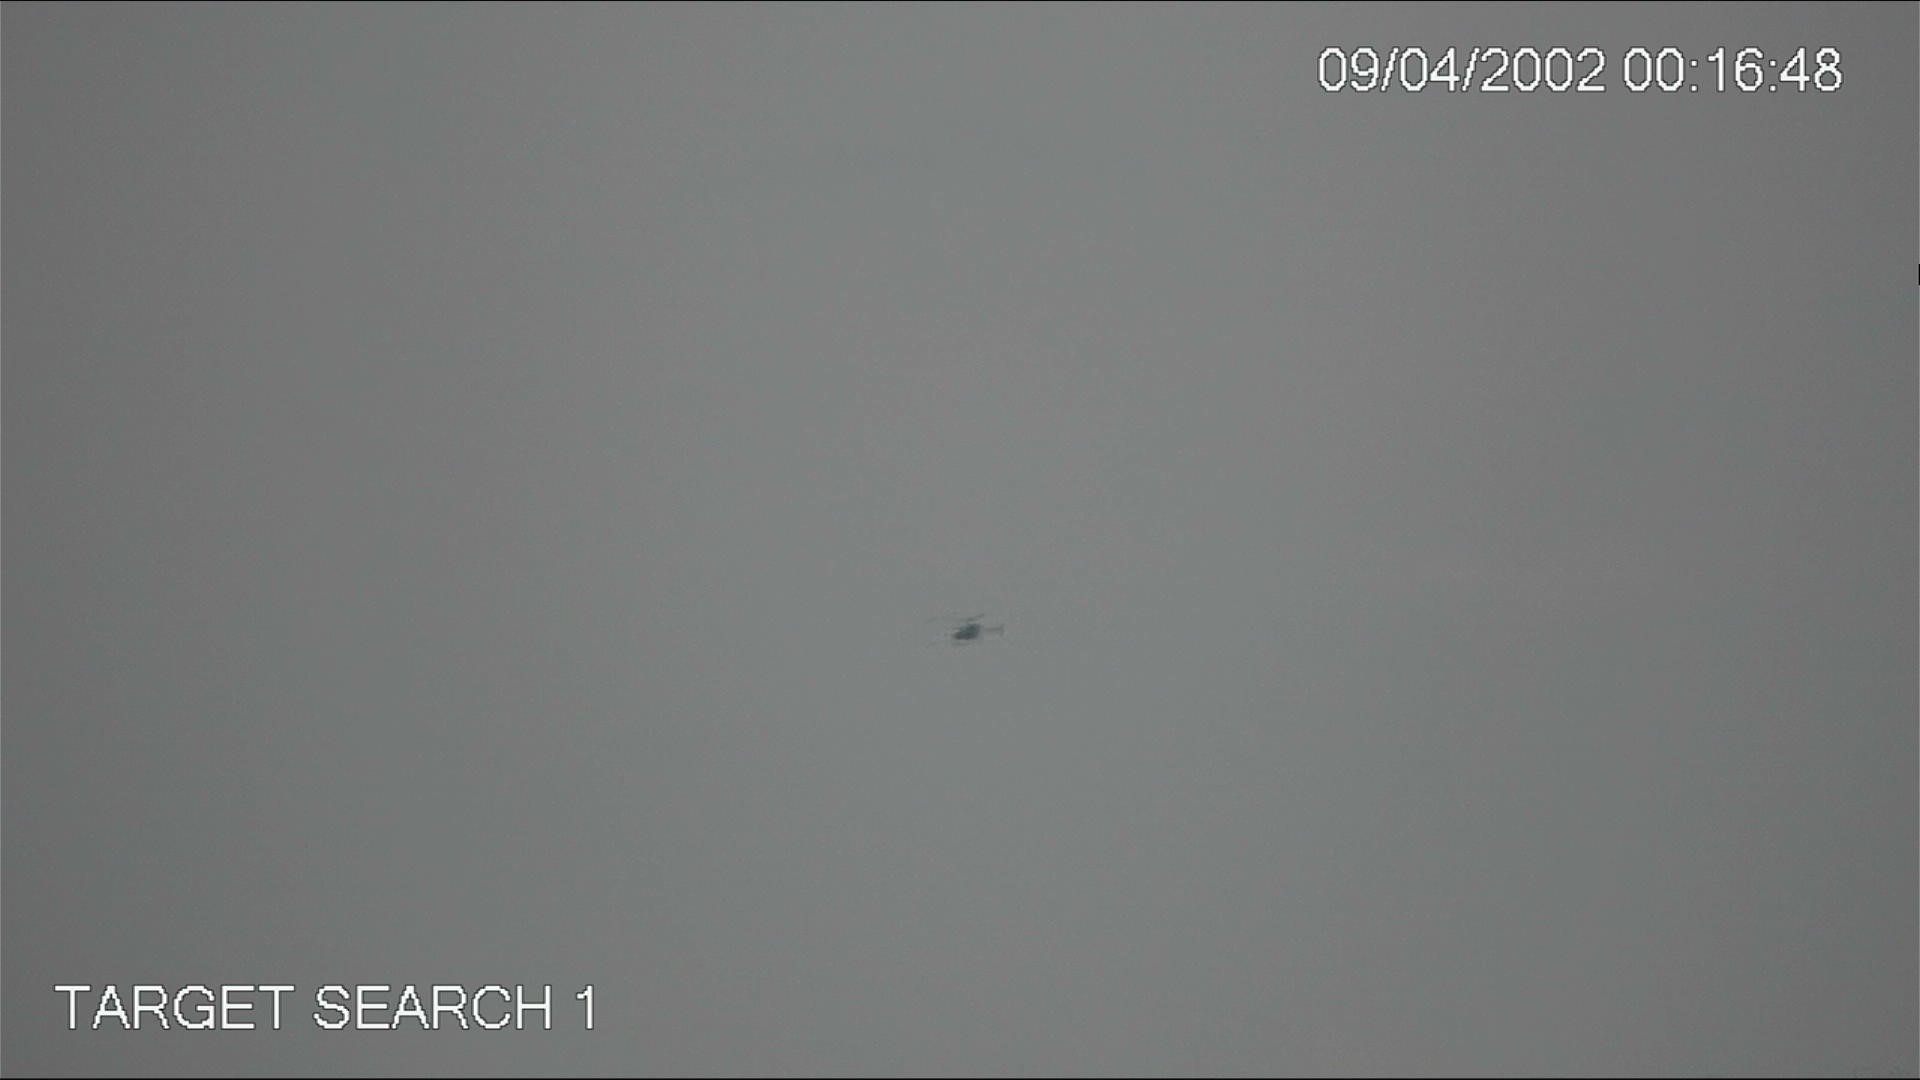SU_30: (947, 621, 978, 640)
